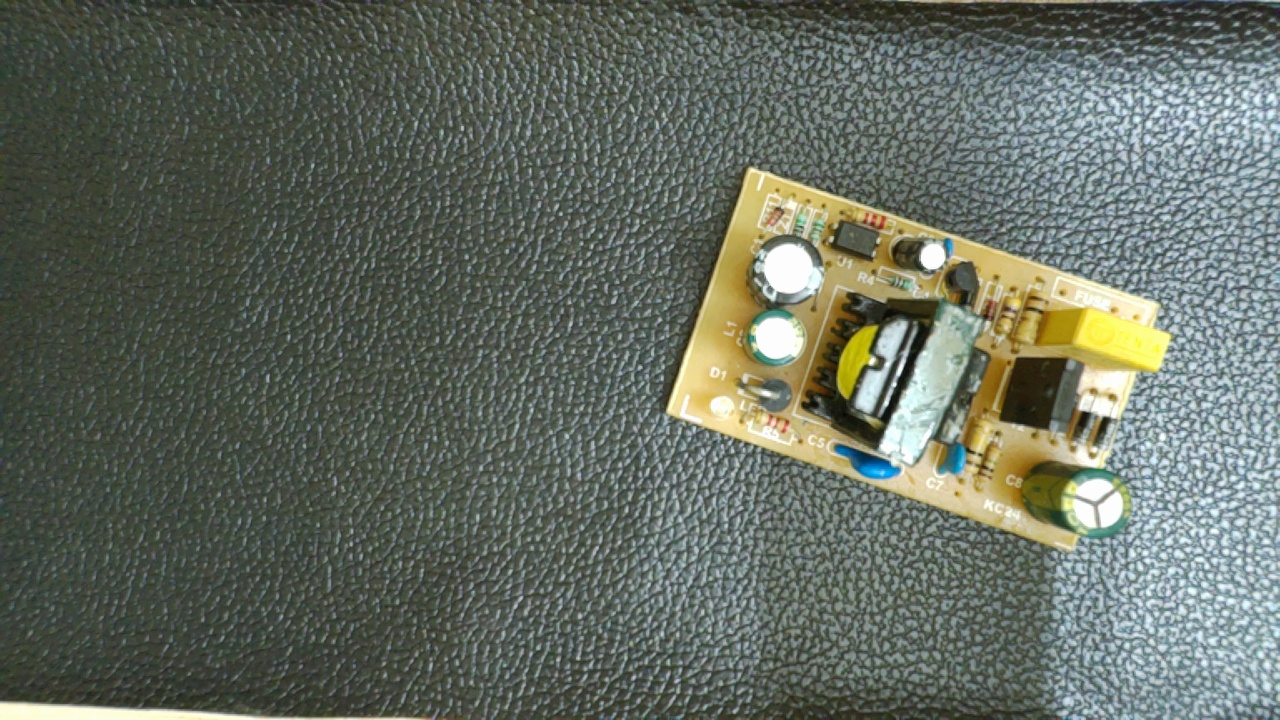hv_capacitor: (1019, 459, 1137, 540)
mov: (827, 437, 912, 482)
optocoupler: (824, 213, 882, 264)
